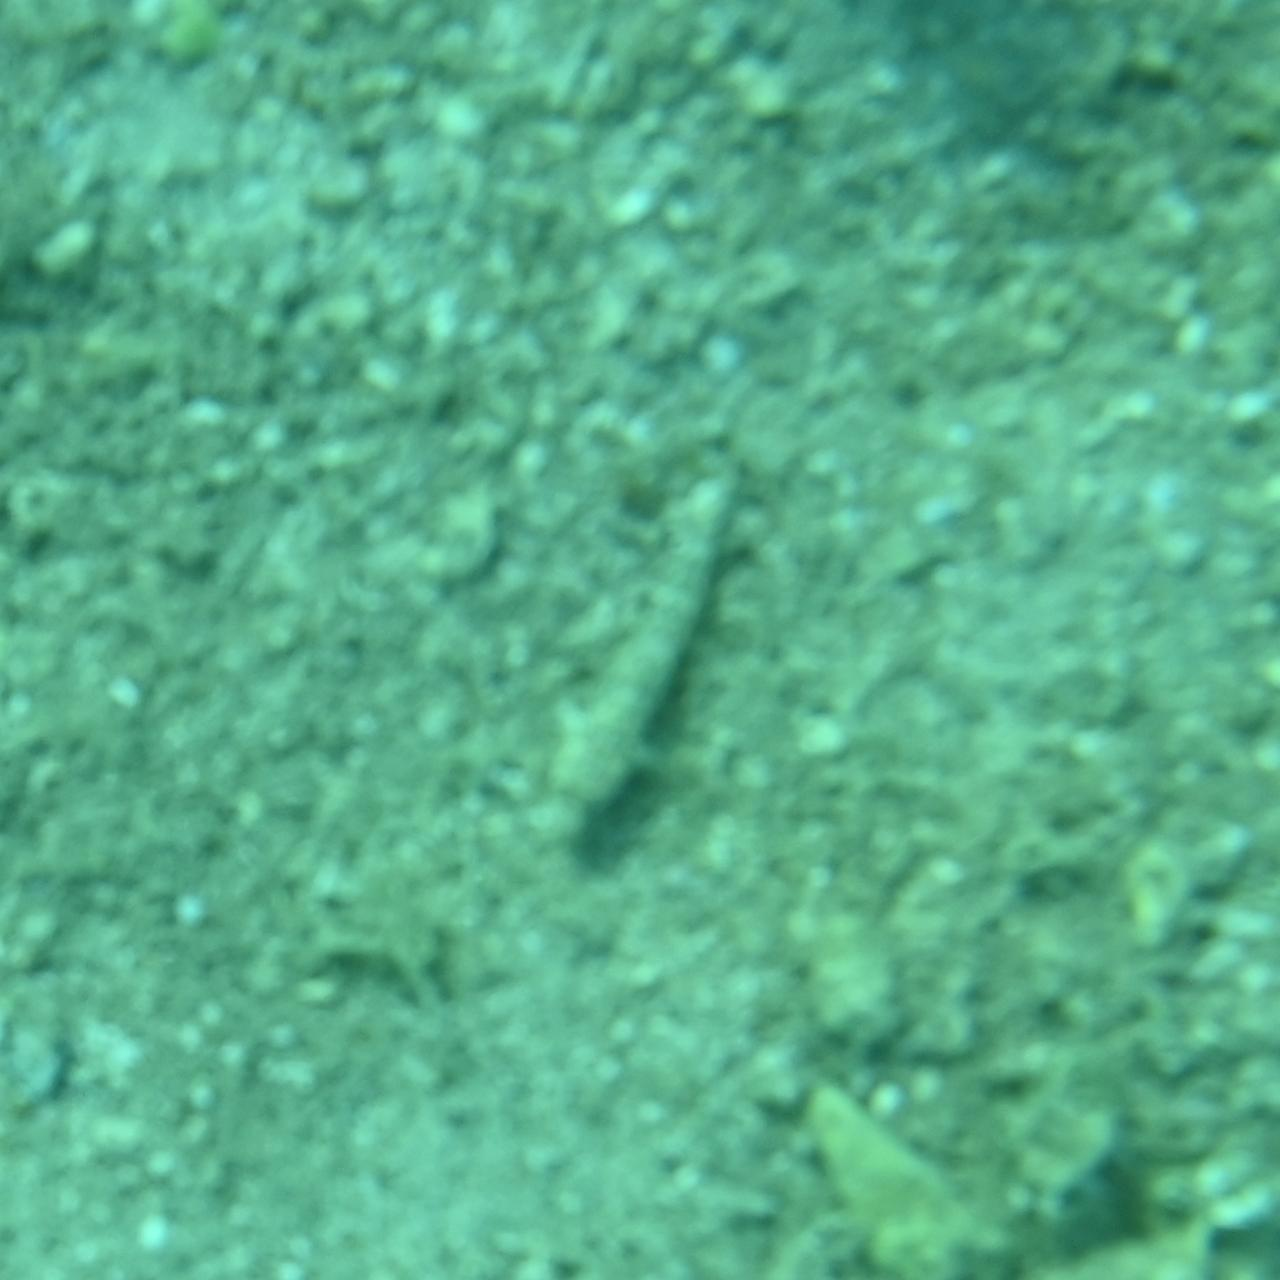Gobius sp: (510, 448, 770, 832)
